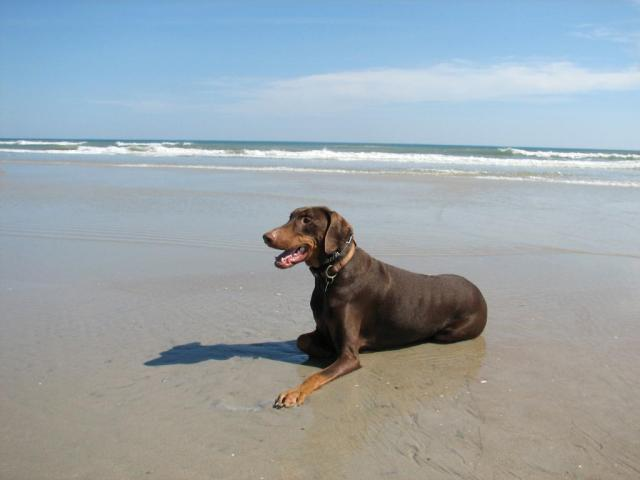Dog: (262, 204, 487, 410)
